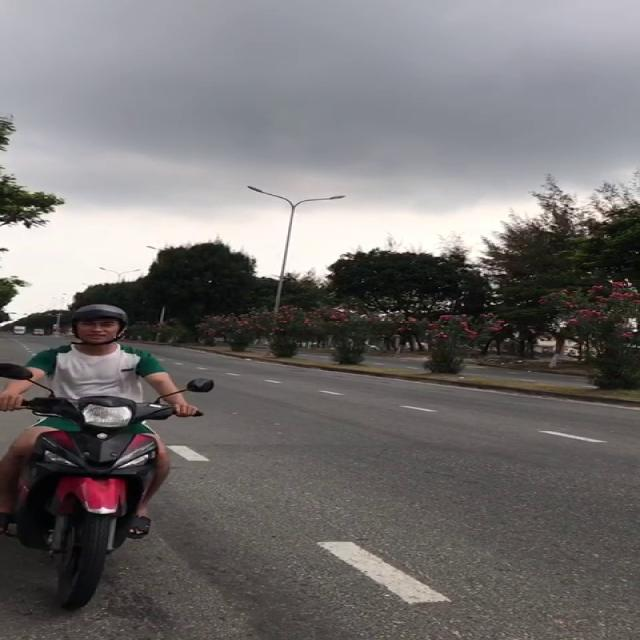helmet: (70, 304, 129, 335)
